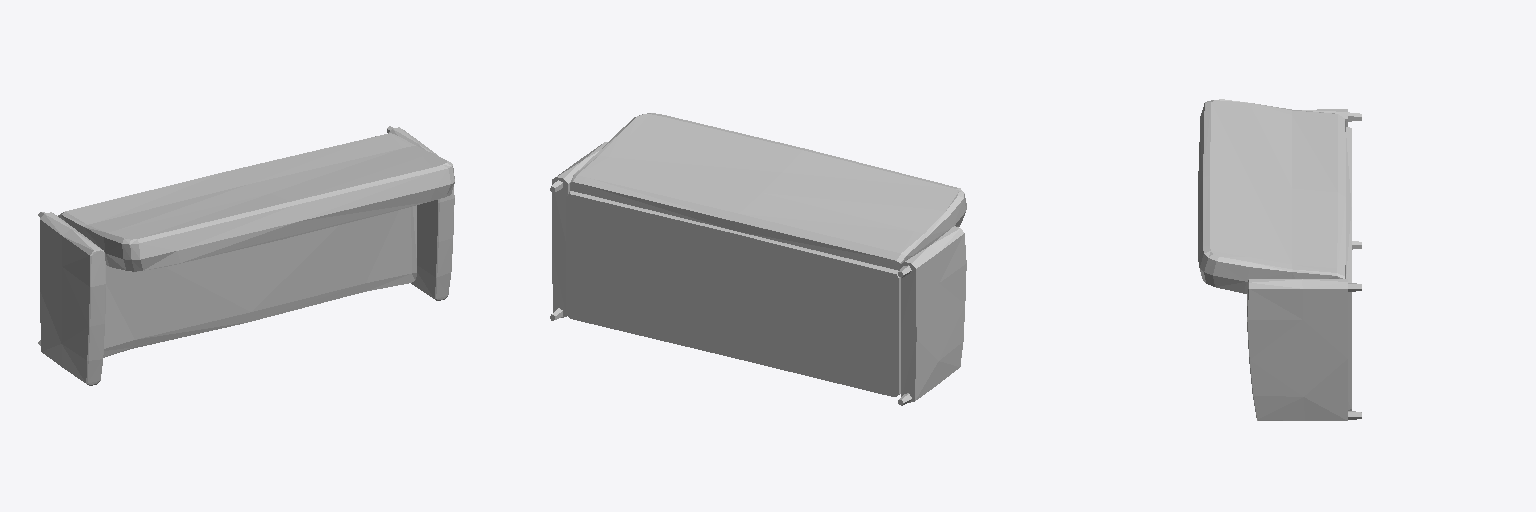
The model's file is couch.obj.
3 views of the same model, side by side, from view 1: azimuth 30°, elevation 25°; view 2: azimuth 150°, elevation 25°; view 3: azimuth 270°, elevation 25° (orthographic).
Size of the model in its own units: 5.87 by 2.46 by 2.29.